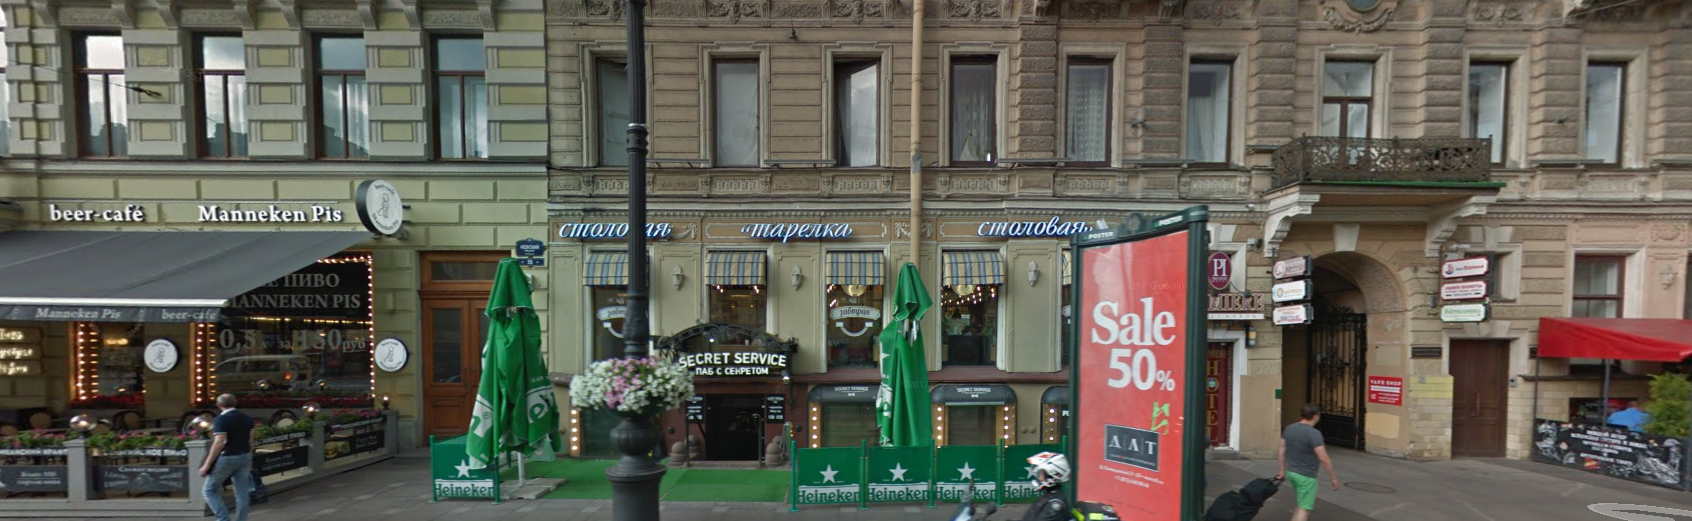arch: (1279, 239, 1420, 468)
cantilever: (339, 168, 429, 256), (1425, 247, 1493, 323), (1269, 244, 1318, 332)
door: (417, 247, 508, 462), (1441, 333, 1514, 465)
signboard: (190, 198, 352, 227), (551, 211, 674, 245), (969, 211, 1094, 243), (43, 194, 162, 227), (734, 218, 854, 246)
window: (310, 29, 373, 166), (63, 25, 128, 156), (183, 32, 246, 165), (427, 35, 489, 163), (702, 46, 761, 177), (1185, 50, 1231, 172), (1328, 50, 1382, 154), (590, 58, 639, 173), (1064, 57, 1113, 169), (835, 47, 881, 167), (947, 44, 993, 161), (1468, 50, 1507, 179), (1582, 50, 1620, 172)
